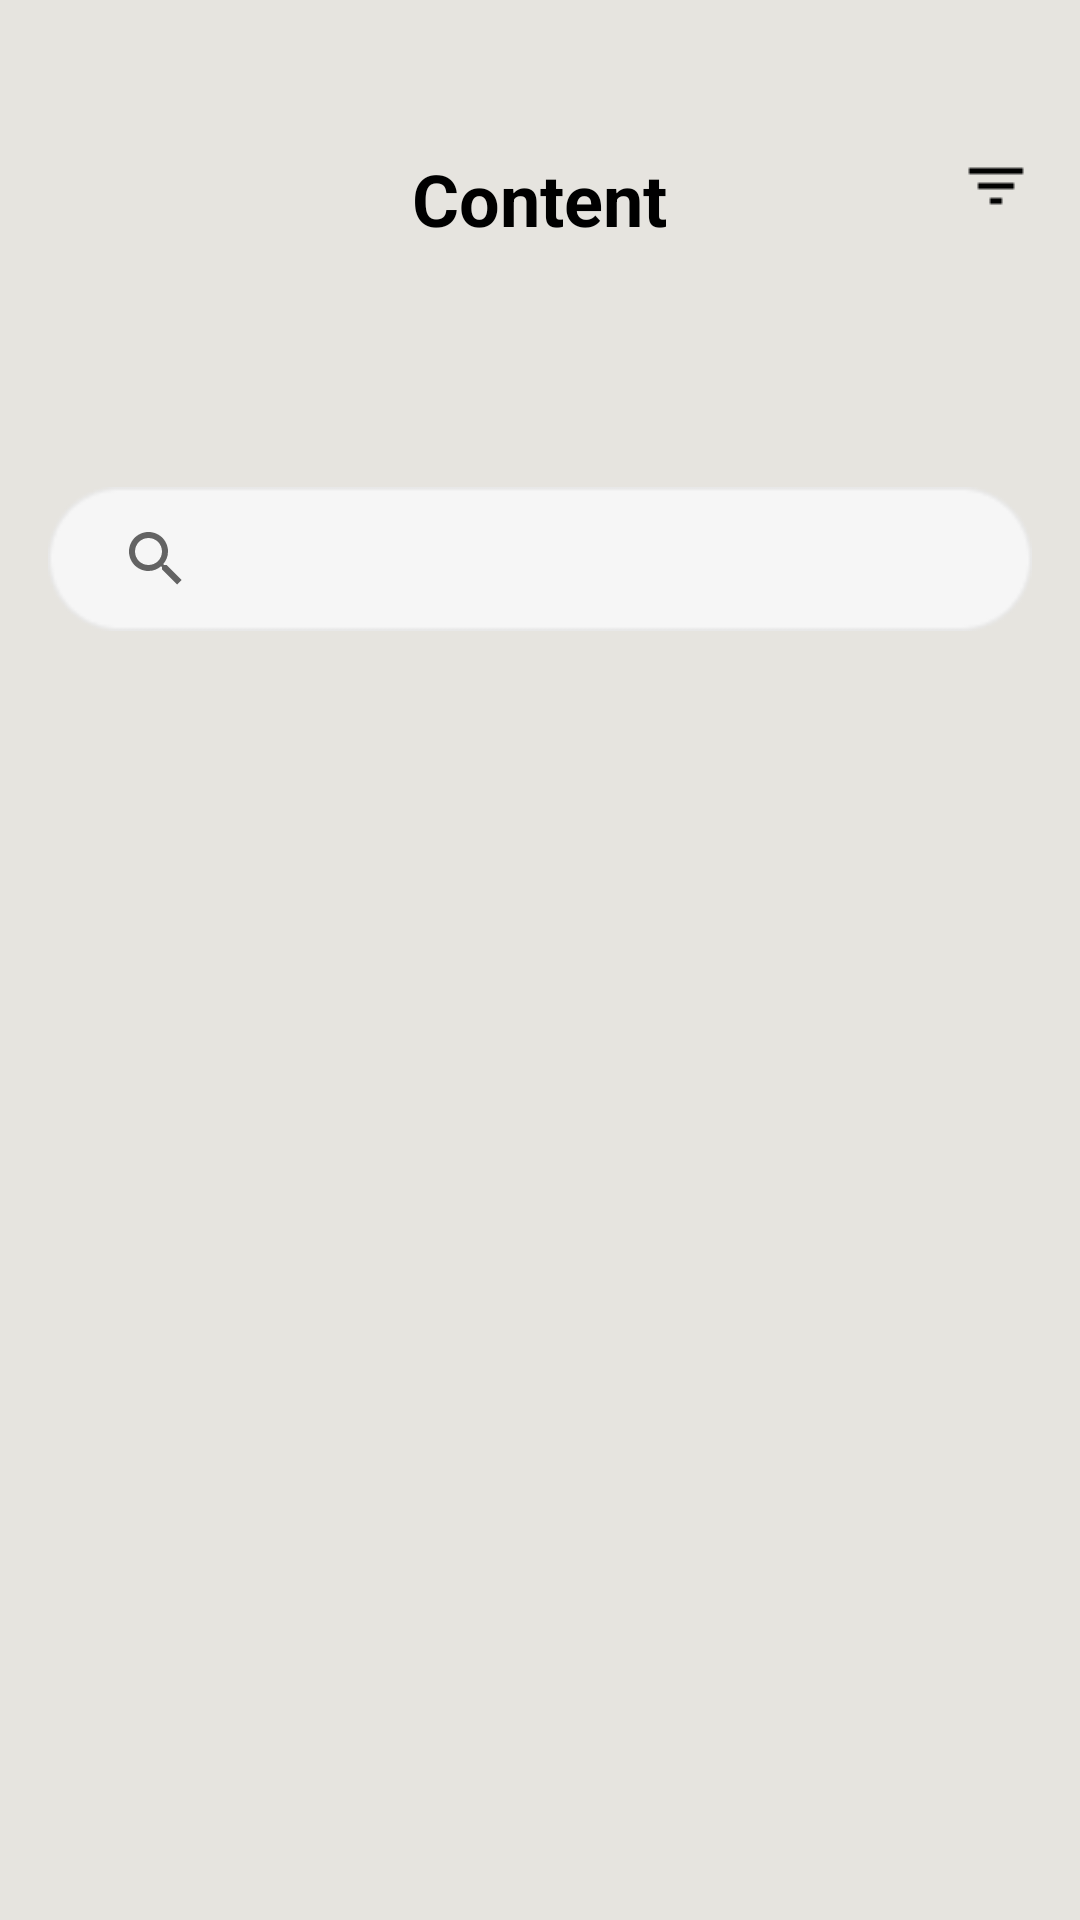

Where icons sit on this 1080*1920 app screen, as (x1, y1, x2, y2):
filter: (968, 167, 1024, 205)
